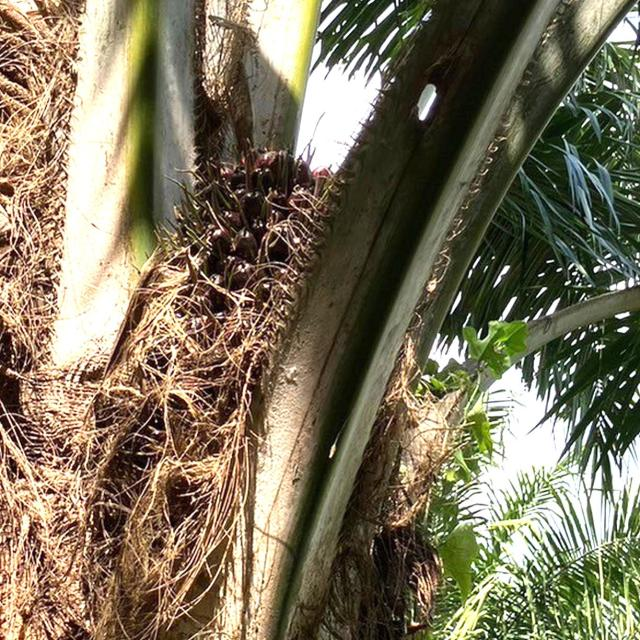almost: (145, 115, 332, 331)
